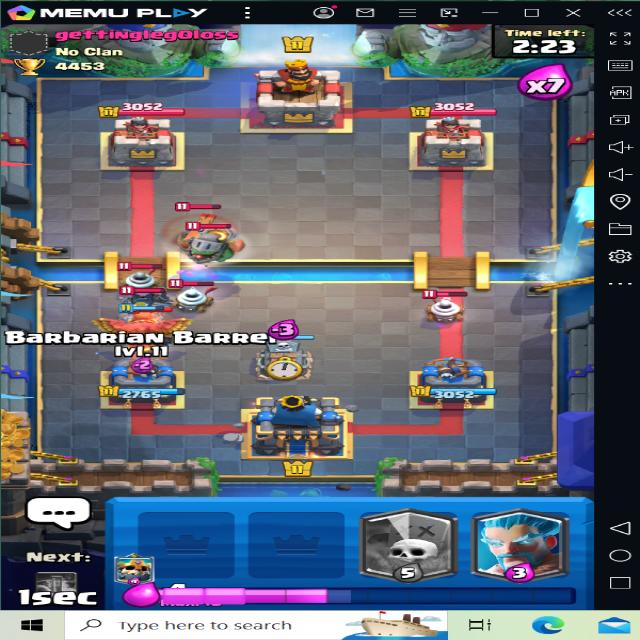flying-machine: (167, 204, 237, 262)
inferno-dragon: (185, 217, 237, 273)
mini-pekka: (120, 285, 168, 307)
zappie: (410, 290, 470, 327), (170, 277, 216, 311), (116, 260, 165, 288)
